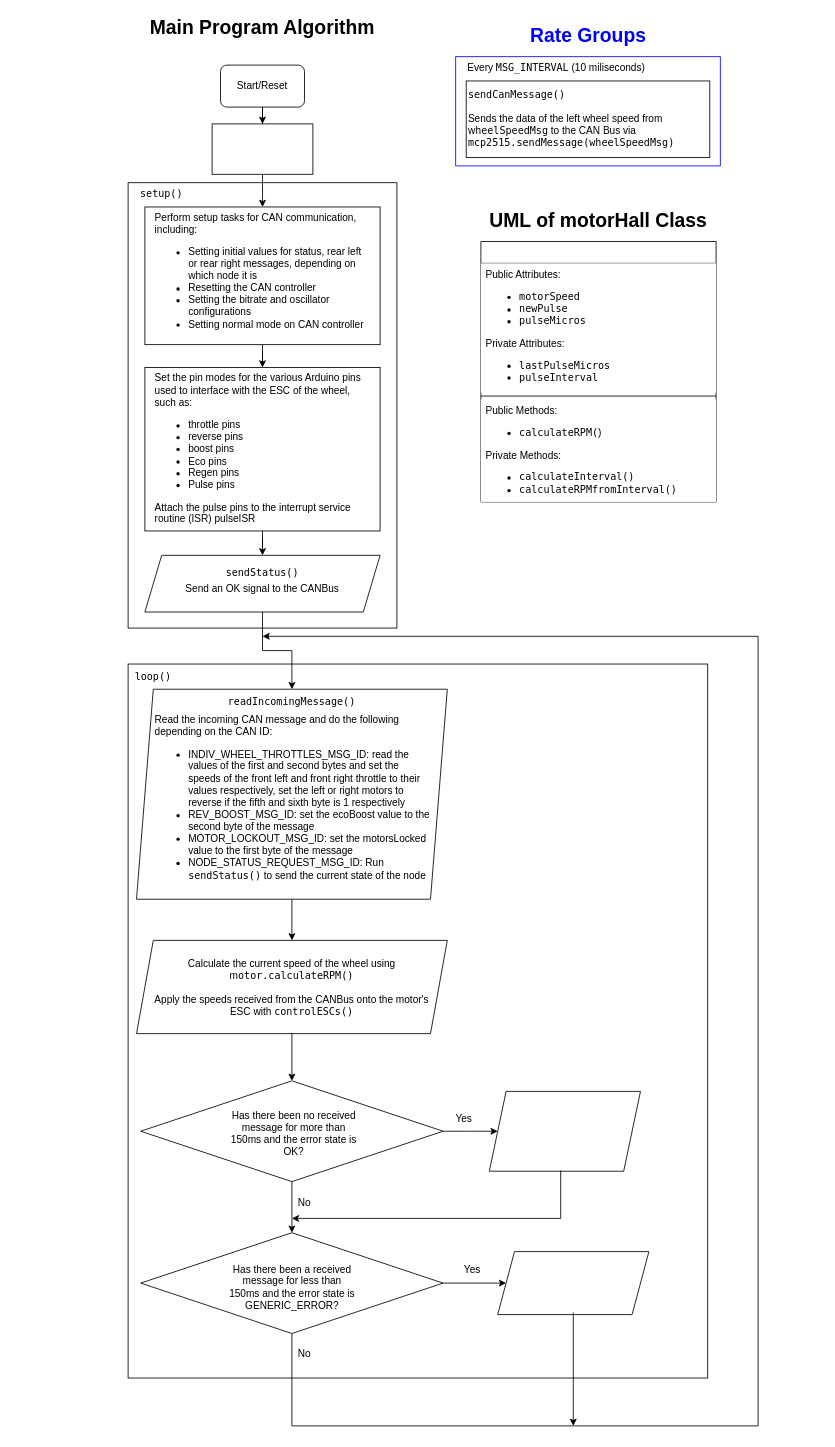
This 835x1447 diagram has some shape labels left out. The shapes that lost their labels are listed below. From the top down, each one's box as (x1, y1, x2, y2) in pixels, then its label:
(211, 123, 313, 174): Initialize 1 motorHall object simply called motor
(480, 241, 716, 502): motorHall
(488, 1091, 640, 1171): Change error state to GENERIC_ERROR and send it through the CAN Bus
(497, 1251, 649, 1315): Change error state to OK and send it through the CAN Bus
